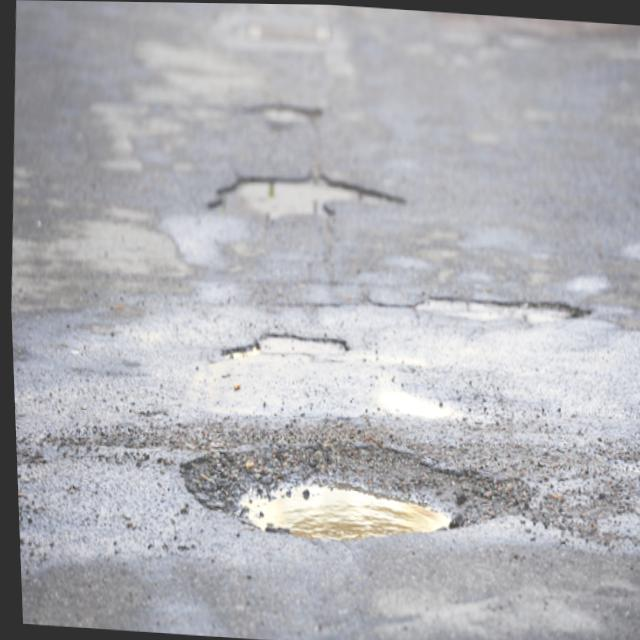Pothole: (176, 438, 510, 537), (205, 170, 397, 217), (413, 293, 585, 320), (219, 326, 347, 357), (247, 98, 317, 125)
